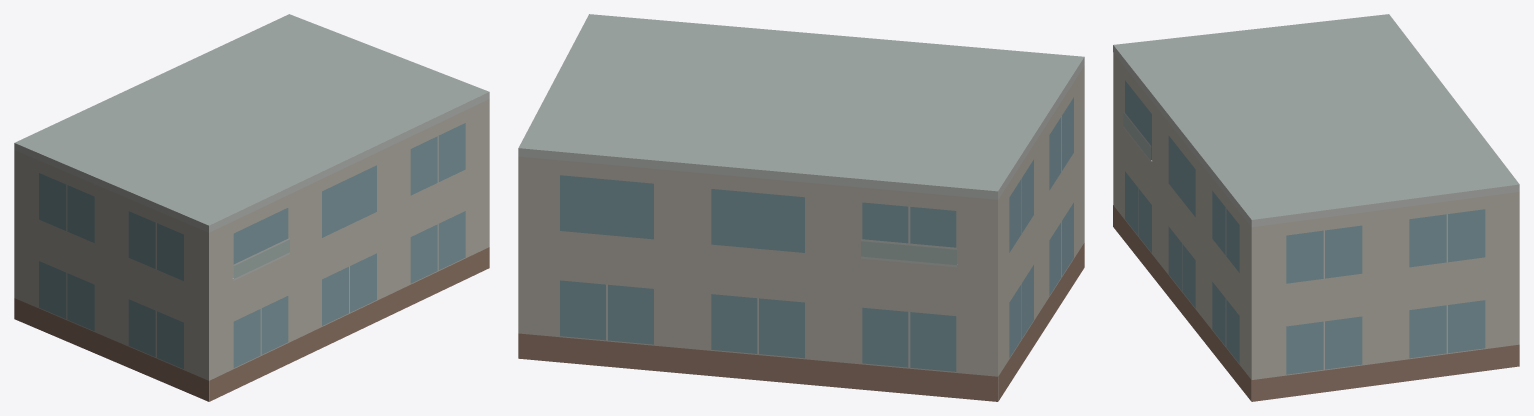
The model's file is survey-upis-32937269.glb.
3 views of the same model, side by side, from view 1: azimuth 30°, elevation 25°; view 2: azimuth 150°, elevation 25°; view 3: azimuth 270°, elevation 25° (orthographic). The views are drawn at different scales.
Parts seen in each view (by area): view 1: survey-upis-32937269.tmp; view 2: survey-upis-32937269.tmp; view 3: survey-upis-32937269.tmp.
Boxes of the visible parts, <box> form: survey-upis-32937269.tmp: <box>14,14,489,401</box>; survey-upis-32937269.tmp: <box>518,14,1084,401</box>; survey-upis-32937269.tmp: <box>1113,14,1519,401</box>.
Bounding box in the file's own units: 14.82 × 6.1 × 12.37.
